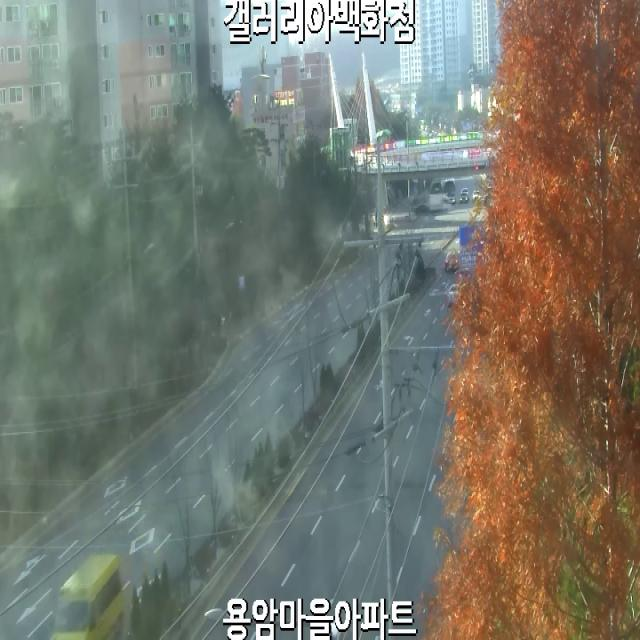Bus: (50, 554, 124, 640)
